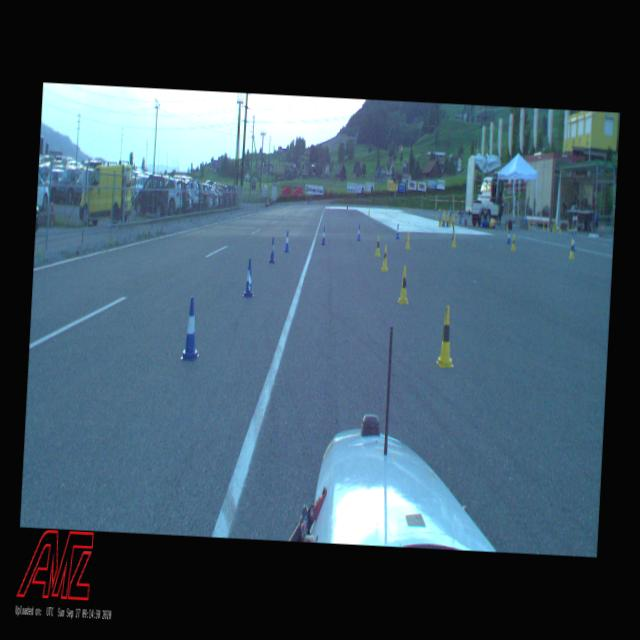blue_cone: (180, 297, 202, 361), (242, 258, 255, 298), (269, 238, 277, 262), (284, 231, 290, 252), (322, 227, 326, 245), (357, 225, 361, 241), (396, 224, 400, 240), (572, 235, 576, 251), (507, 230, 511, 244), (452, 226, 456, 240)
yellow_cone: (436, 306, 456, 366), (398, 266, 409, 304), (382, 246, 389, 272), (376, 236, 382, 256), (406, 232, 411, 250), (511, 234, 516, 250), (452, 232, 457, 248), (570, 240, 574, 258)
